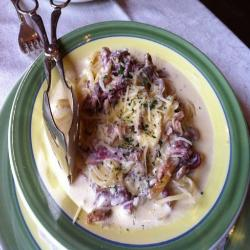carbonara: (42, 53, 220, 236)
